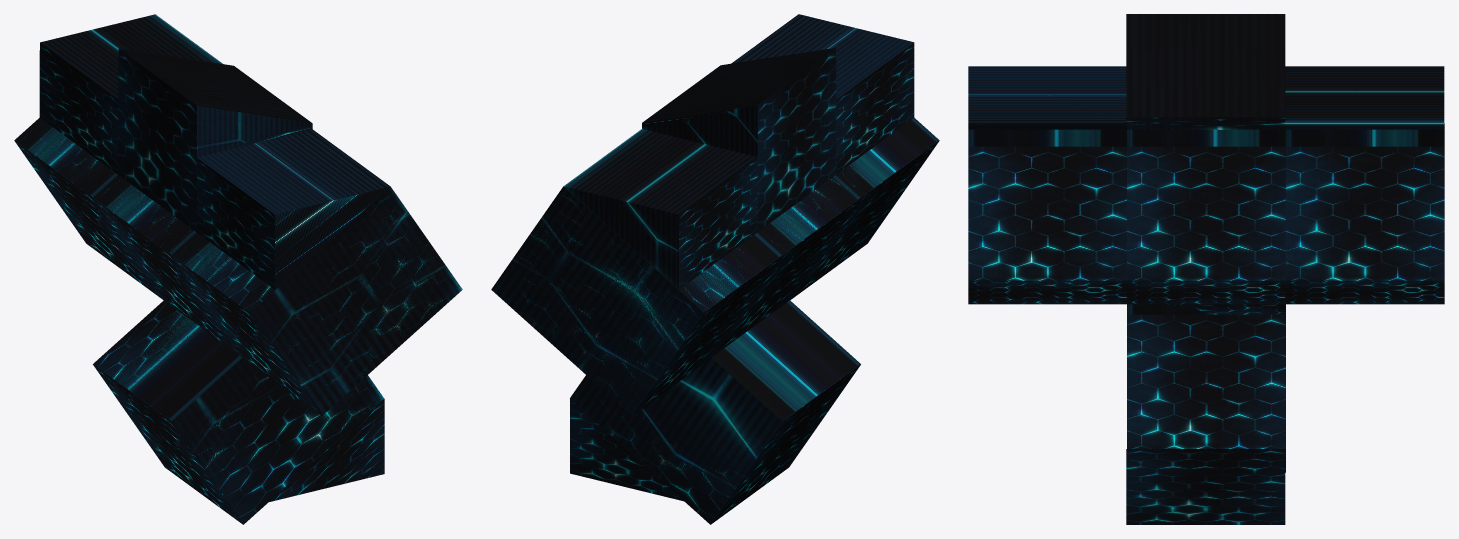
The picture shows the model from 3 angles, left to right: view 1: azimuth 30°, elevation 25°; view 2: azimuth 150°, elevation 25°; view 3: azimuth 270°, elevation 25°; orthographic projection.
Parts seen in each view (by area): view 1: Cubo.005, Cubo.003, Cubo.006, Cubo.002, Cubo.001, Cubo; view 2: Cubo.005, Cubo.002, Cubo.006, Cubo.003, Cubo.001, Cubo; view 3: Cubo.005, Cubo.002, Cubo.001, Cubo.003, Cubo.006, Cubo.
Boxes of the visible parts, bbox=[...] form: Cubo.005: bbox=[39, 14, 390, 289]; Cubo.003: bbox=[171, 129, 462, 415]; Cubo.006: bbox=[93, 300, 383, 524]; Cubo.002: bbox=[14, 14, 222, 300]; Cubo.001: bbox=[93, 175, 242, 357]; Cubo: bbox=[269, 398, 384, 501]; Cubo.005: bbox=[564, 14, 914, 289]; Cubo.002: bbox=[491, 129, 782, 415]; Cubo.006: bbox=[570, 300, 860, 524]; Cubo.003: bbox=[731, 14, 939, 300]; Cubo.001: bbox=[711, 175, 860, 357]; Cubo: bbox=[570, 399, 683, 501]; Cubo.005: bbox=[968, 14, 1444, 129]; Cubo.002: bbox=[1285, 123, 1444, 304]; Cubo.001: bbox=[1127, 129, 1285, 304]; Cubo.003: bbox=[968, 129, 1126, 304]; Cubo.006: bbox=[1127, 304, 1285, 472]; Cubo: bbox=[1126, 449, 1285, 524].
Bounding box in the file's own units: 313 × 605 × 600.
